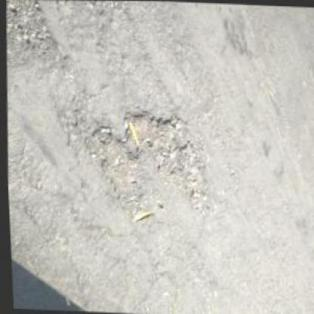Hueco: (83, 104, 210, 224)
